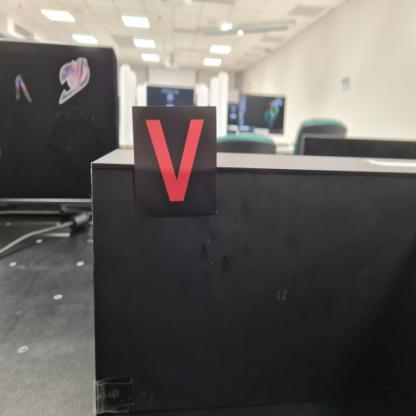v: (132, 105, 220, 218)
